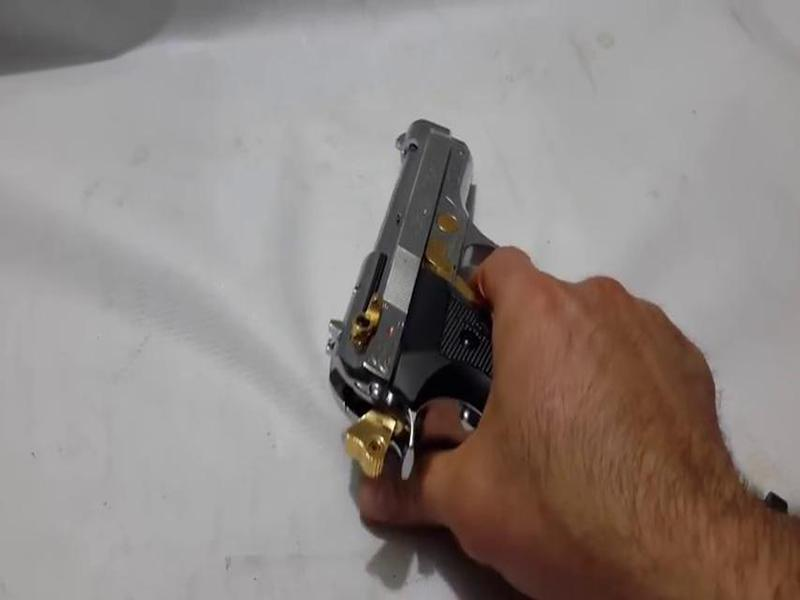Pistola: (320, 94, 789, 544)
